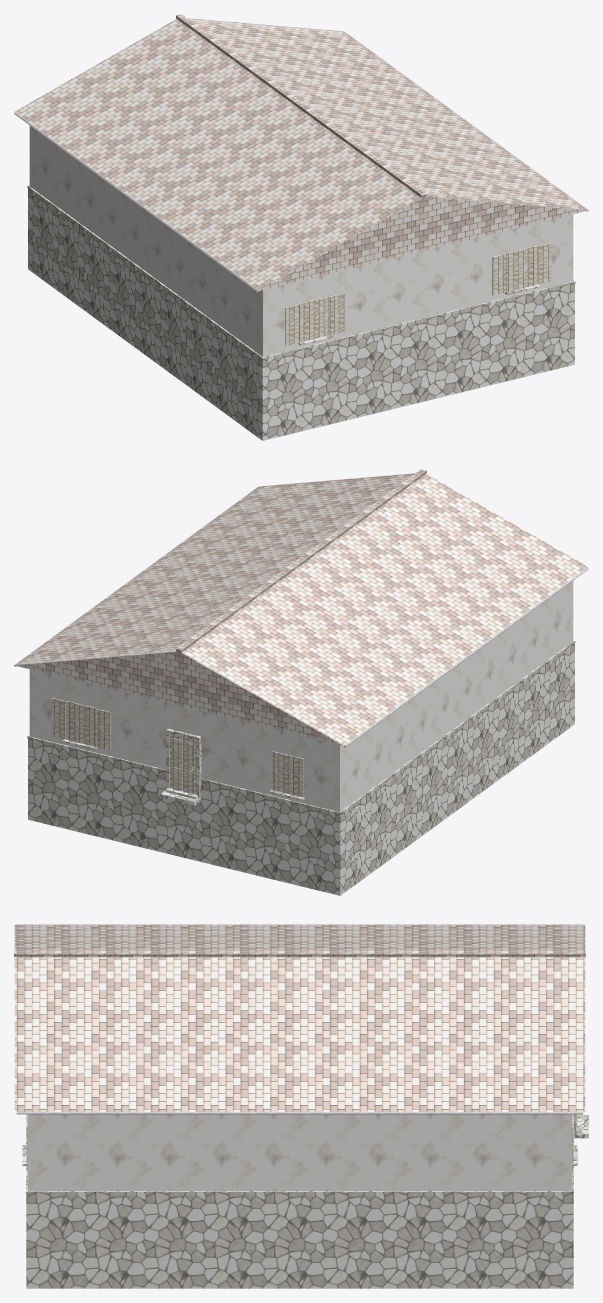
3 renders of one model, top to bottom at view 1: azimuth 30°, elevation 25°; view 2: azimuth 150°, elevation 25°; view 3: azimuth 270°, elevation 25°, orthographic. The views are drawn at different scales.
Parts seen in each view (by area): view 1: b615241434; view 2: b615241434; view 3: b615241434.
Part boxes in pixels (<box>): b615241434: <box>14,14,588,440</box>; b615241434: <box>14,469,588,895</box>; b615241434: <box>14,924,588,1288</box>.
Bounding box in the file's own units: 12 × 7.34 × 15.44.
15 materials, 15 textured.
